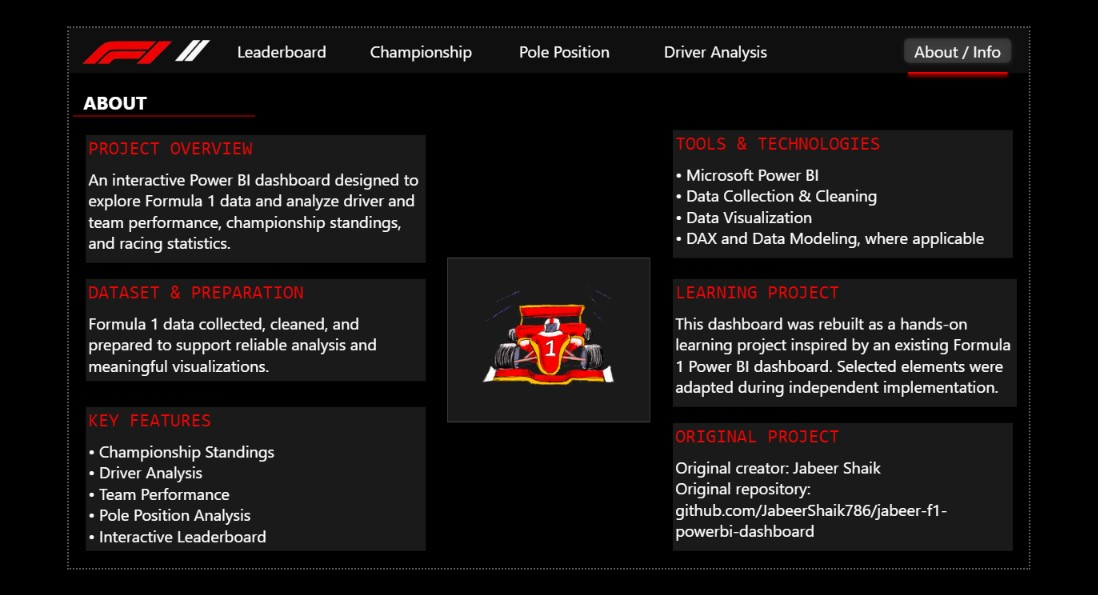

This screenshot's page, from the dashboard's own definition file:
{"tool":"powerbi","page":{"name":"About","canvas":[1920,1080],"ordinal":5},"visuals":[{"type":"textbox","title":"About","box":[24,118,154,60],"z":0},{"type":"shape","box":[0,148,380,56],"z":1000},{"type":"image","box":[204,2,78,92],"z":2000},{"type":"group","id":"g1","title":"Header","box":[0,0,1920,108],"z":3000},{"type":"textbox","box":[34,758,680,288],"z":4000},{"type":"textbox","box":[34,502,680,204],"z":5000},{"type":"textbox","box":[34,214,680,256],"z":6000},{"type":"textbox","box":[1208,204,680,256],"z":7000},{"type":"shape","box":[0,0,1920,90],"z":8000,"group":"g1"},{"type":"textbox","box":[1208,502,688,256],"z":8000},{"type":"actionButton","title":"Championship button","box":[575.7,10,257.1,70],"z":9000,"group":"g1"},{"type":"textbox","box":[1208,790,680,256],"z":9000},{"type":"image","box":[758,460,404,328],"z":9001},{"type":"actionButton","title":"Pole position button","box":[874.3,10,234.3,70],"z":10000,"group":"g1"},{"type":"actionButton","title":"driver analysis","box":[1155,10,275,70],"z":11000,"group":"g1"},{"type":"actionButton","title":"About button","box":[1660,10,235,70],"z":12000,"group":"g1"},{"type":"image","box":[200,0,92.5,90],"z":13000,"group":"g1"},{"type":"shape","box":[1668,72,220,36],"z":14000,"group":"g1"},{"type":"actionButton","title":"Leadership Button","box":[298,10,256,70],"z":15000,"group":"g1"},{"type":"image","box":[24.7,0,186.5,97.5],"z":15500,"group":"g1"}]}

Visuals, with their boxes on the page's 1920x1080 design canvas (x1, y1, x2, y2). These are canvas units, not pixel positions in the 1098x595 screenshot, which may show the page scaled, cropped or inside an application window:
"About" textbox: <box>24,118,178,178</box>
shape: <box>0,148,380,204</box>
image: <box>204,2,282,94</box>
"Header" group: <box>0,0,1920,108</box>
textbox: <box>34,758,714,1046</box>
textbox: <box>34,502,714,706</box>
textbox: <box>34,214,714,470</box>
textbox: <box>1208,204,1888,460</box>
shape: <box>0,0,1920,90</box>
textbox: <box>1208,502,1896,758</box>
"Championship button" actionButton: <box>576,10,833,80</box>
textbox: <box>1208,790,1888,1046</box>
image: <box>758,460,1162,788</box>
"Pole position button" actionButton: <box>874,10,1109,80</box>
"driver analysis" actionButton: <box>1155,10,1430,80</box>
"About button" actionButton: <box>1660,10,1895,80</box>
image: <box>200,0,292,90</box>
shape: <box>1668,72,1888,108</box>
"Leadership Button" actionButton: <box>298,10,554,80</box>
image: <box>25,0,211,98</box>
